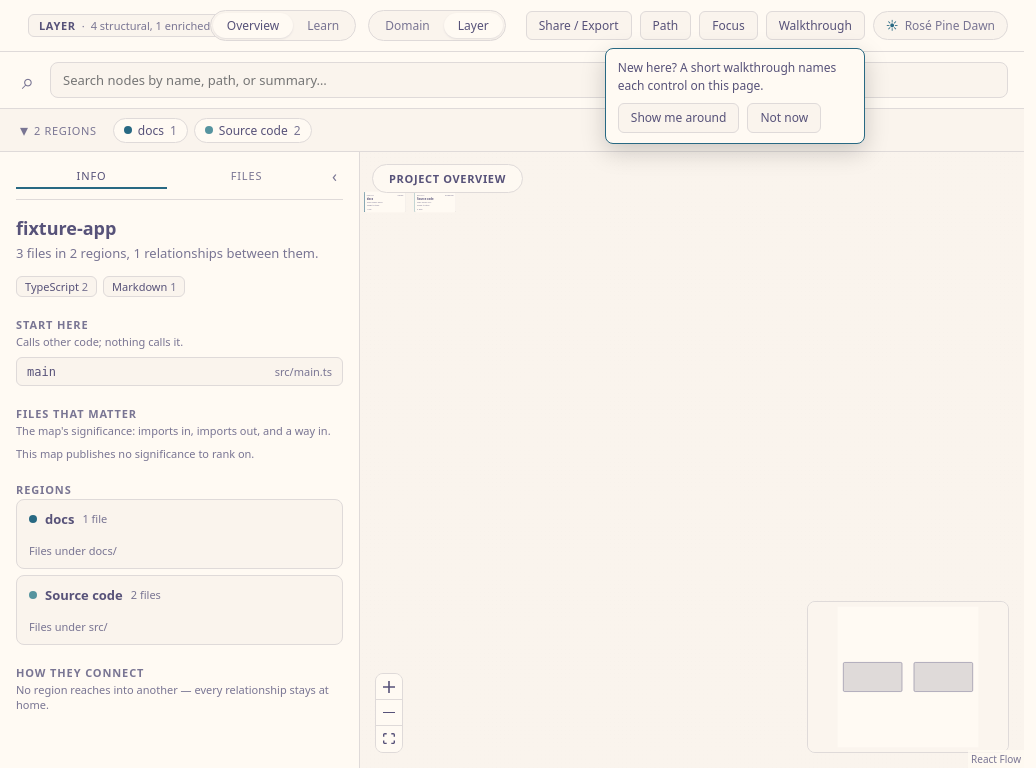
Test: the files tab filters what it shows › says so when nothing matches, rather than looking empty
Click the tab "Files".
click(246, 176)  # box x1=171 y1=162 x2=322 y2=189
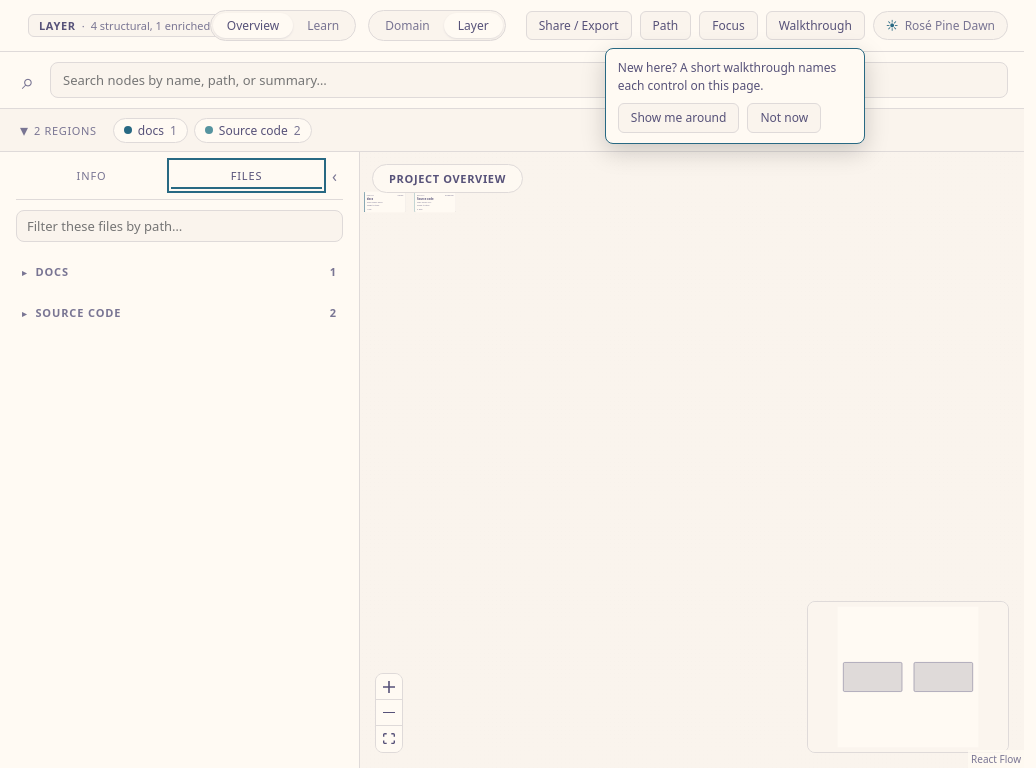
Type "zzz-no-such-path" into the search field named "Filter files".
click(180, 226); type("zzz-no-such-path")  # box x1=16 y1=210 x2=343 y2=242
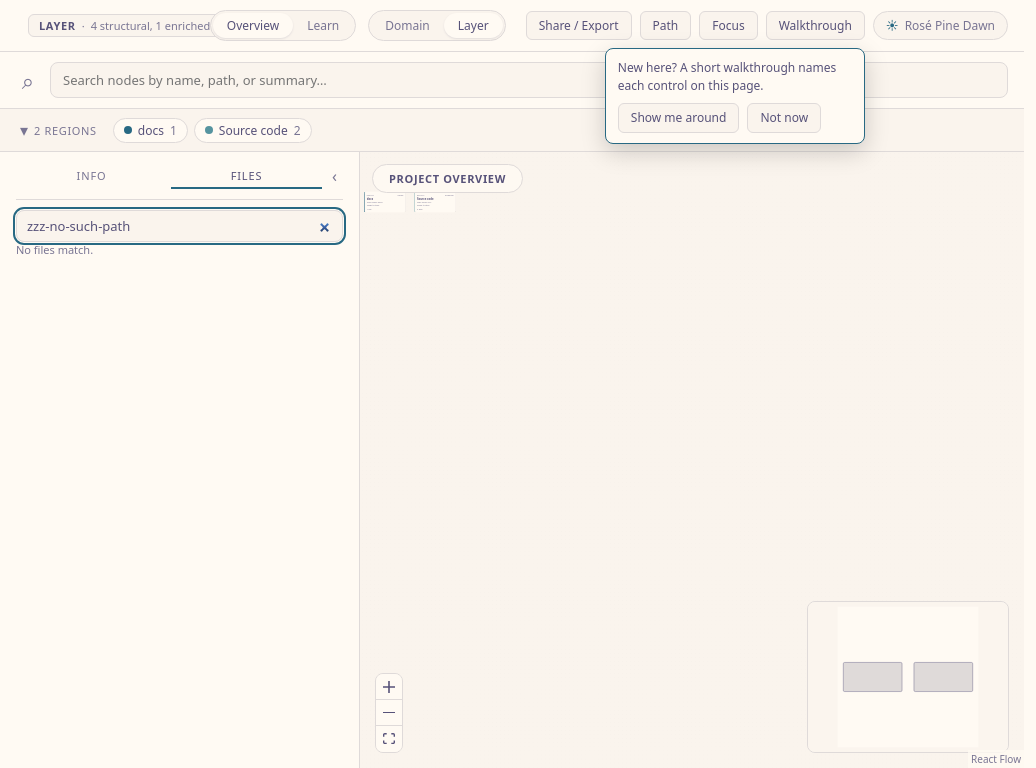
expect the text "No files match." is shown: met, box x1=16 y1=242 x2=93 y2=257
